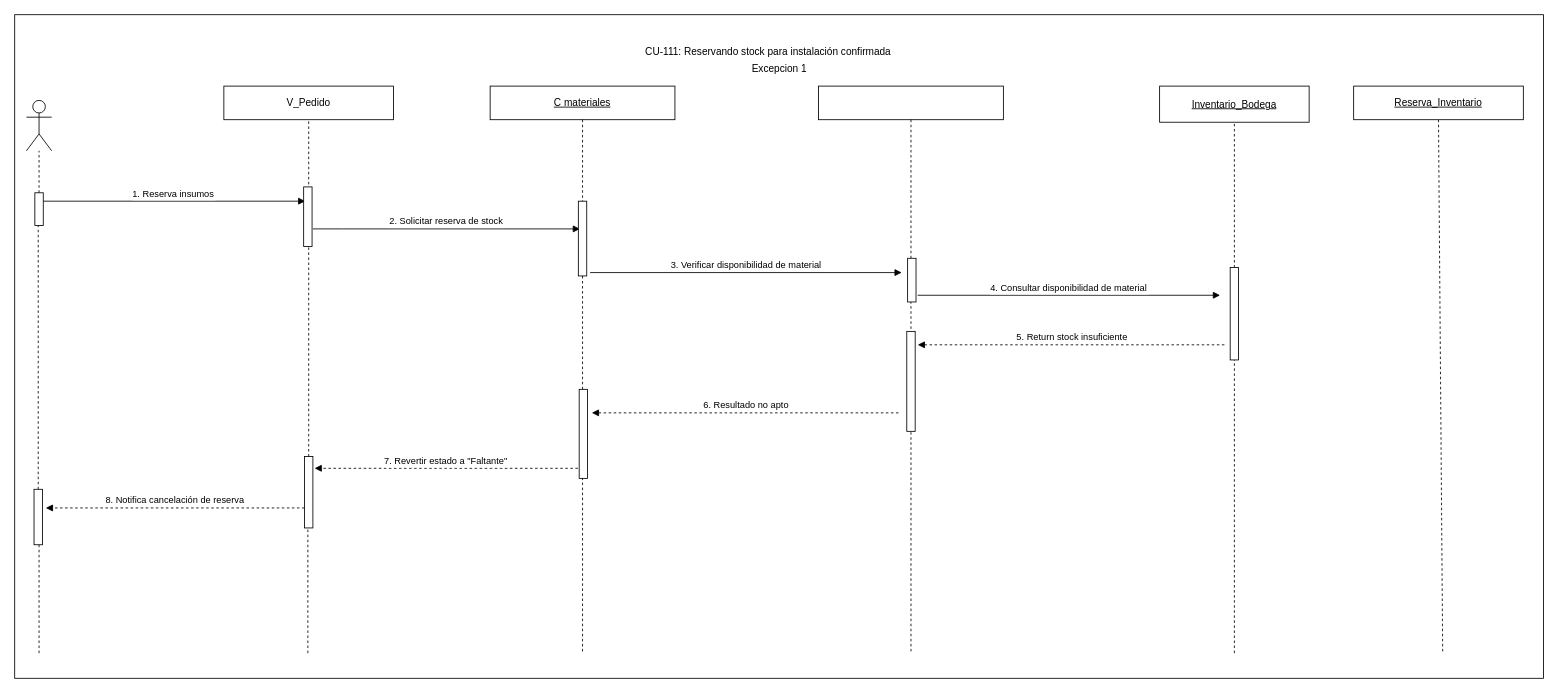
Some shapes in this 1558 by 693 pixel diagram are drawn without their labels. The centre of each missing label's shape, as x and y in pixels:
"C Postgre" belongs at point 910,369.
"JOP" belongs at point 39,125.
